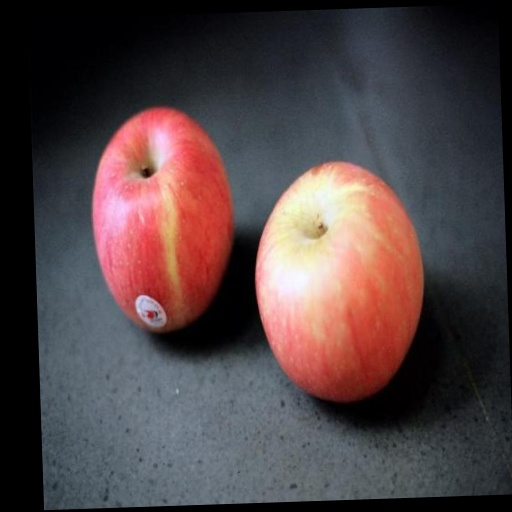fruit: (255, 162, 422, 401), (92, 108, 233, 332)
